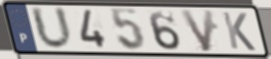4: (79, 8, 109, 50)
5: (107, 8, 149, 53)
6: (147, 9, 183, 51)
K: (220, 11, 258, 52)
U: (28, 6, 75, 52)
V: (178, 8, 216, 53)
